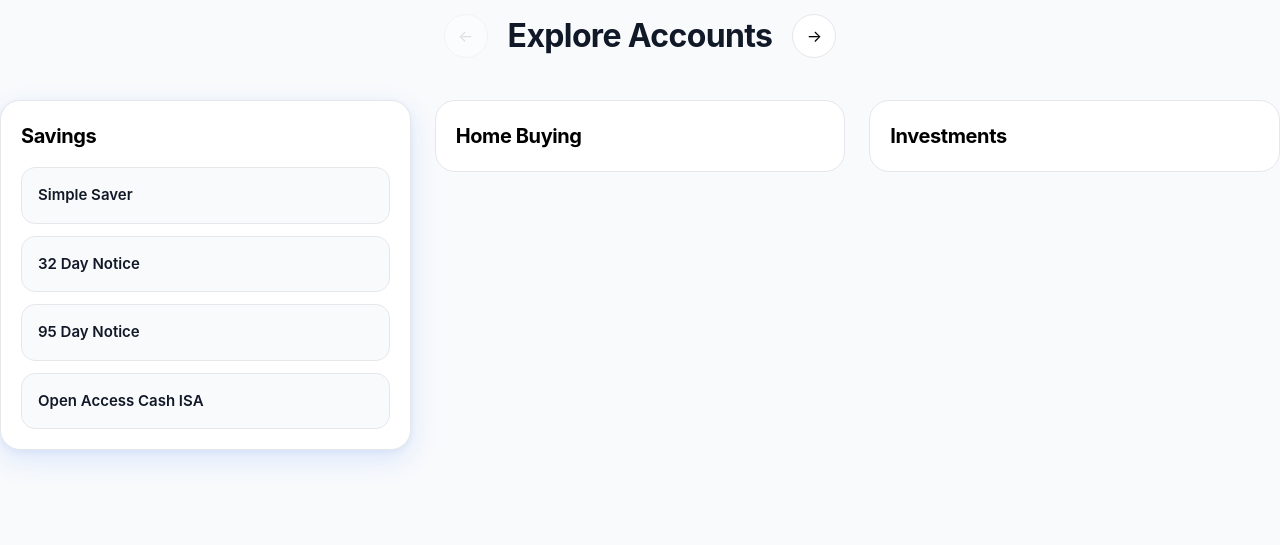
Test: AccountsExplorer › closes a product when the user clicks it again
The image size is (1280, 545).
Click the button "Simple Saver". click: (85, 194)
box: [22, 168, 389, 222]
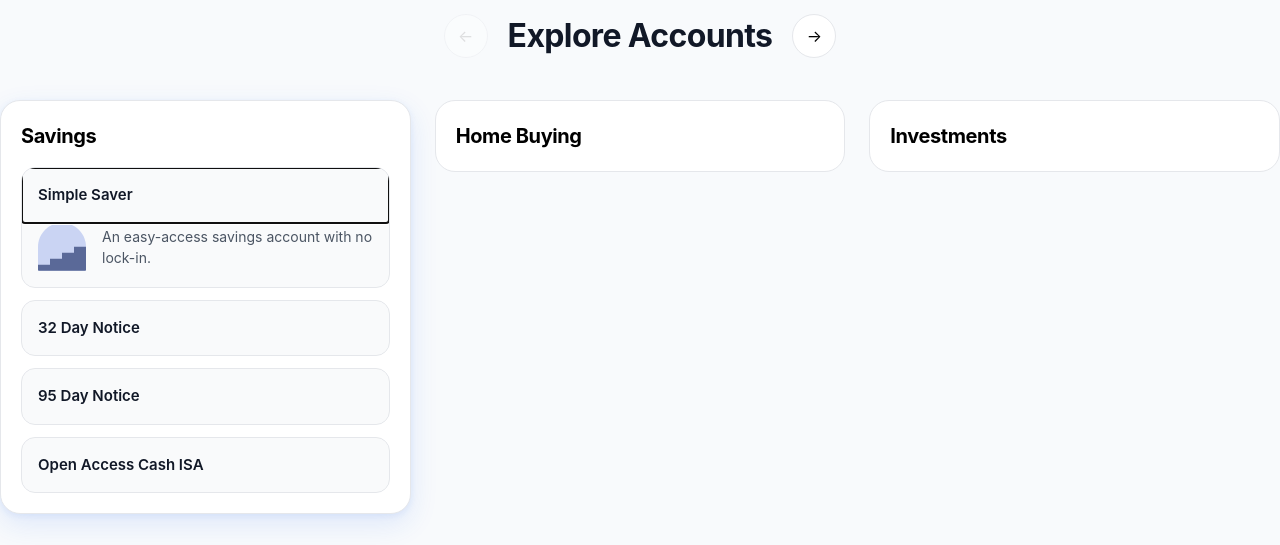
Click the button "Simple Saver". click: (85, 194)
box: [22, 168, 389, 222]
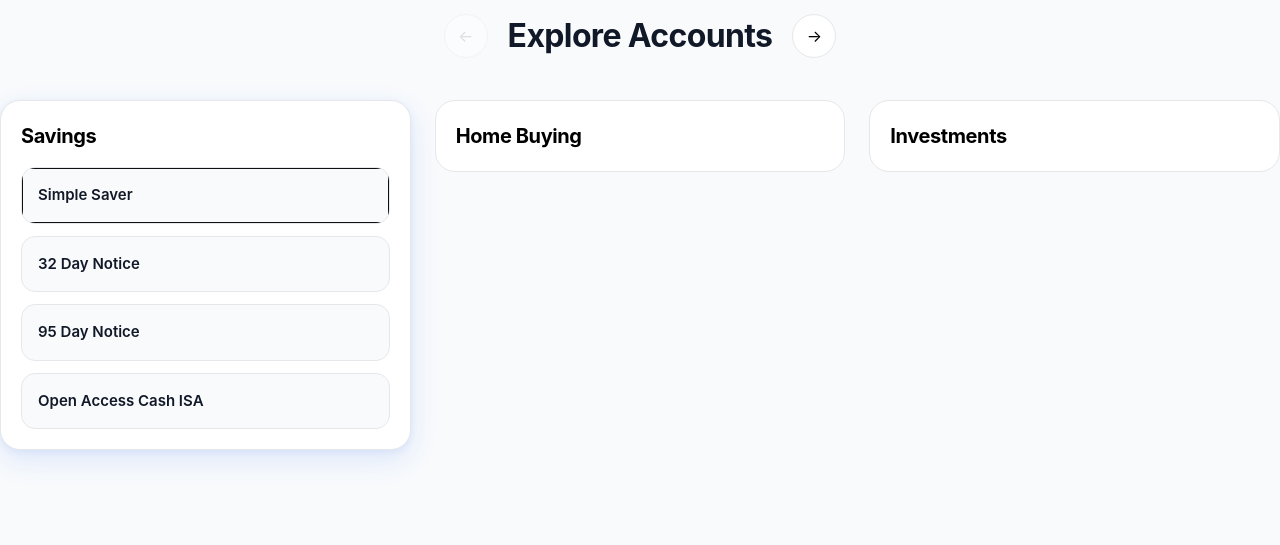
Expected: the text "An easy-access savings account with no lock-in." is gone
